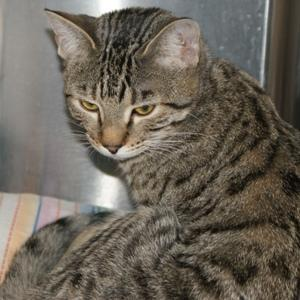bengal: (33, 1, 208, 173)
